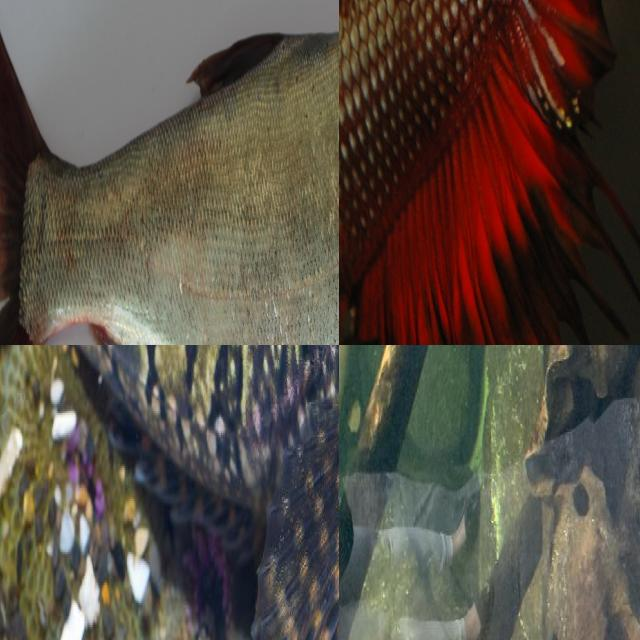fish: (0, 0, 339, 345), (339, 0, 640, 345), (0, 345, 339, 640), (514, 345, 640, 566)
